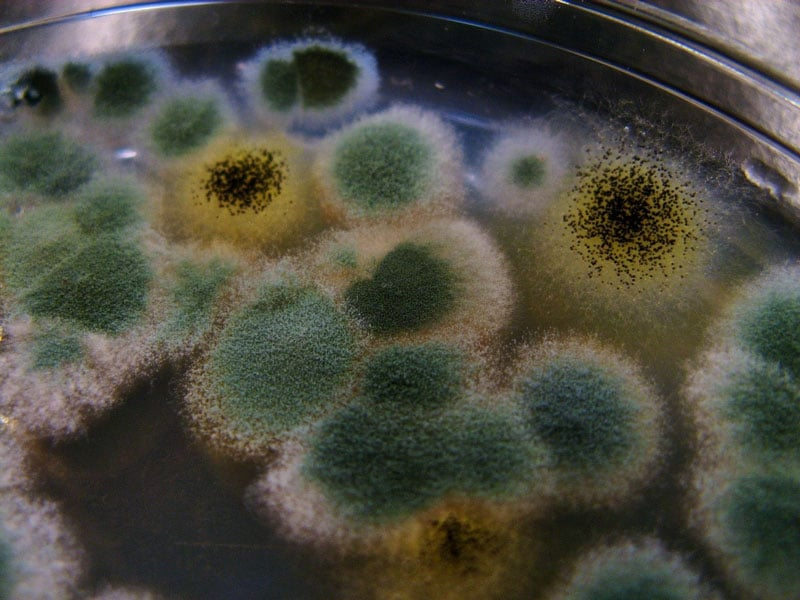Penicillium: (167, 259, 375, 449), (393, 345, 632, 498), (716, 301, 800, 548), (554, 133, 689, 283), (291, 124, 461, 198), (260, 46, 371, 112), (19, 368, 83, 427)
